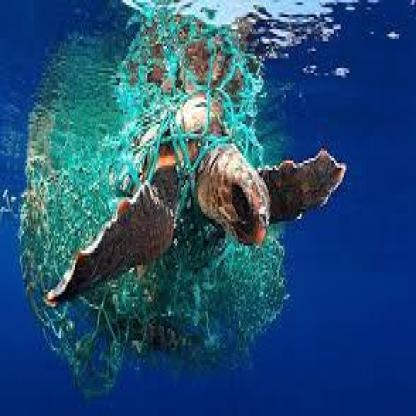net: (23, 66, 283, 367)
